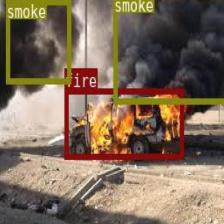fire: (64, 88, 183, 159)
smoke: (112, 0, 224, 103), (5, 0, 70, 82)
